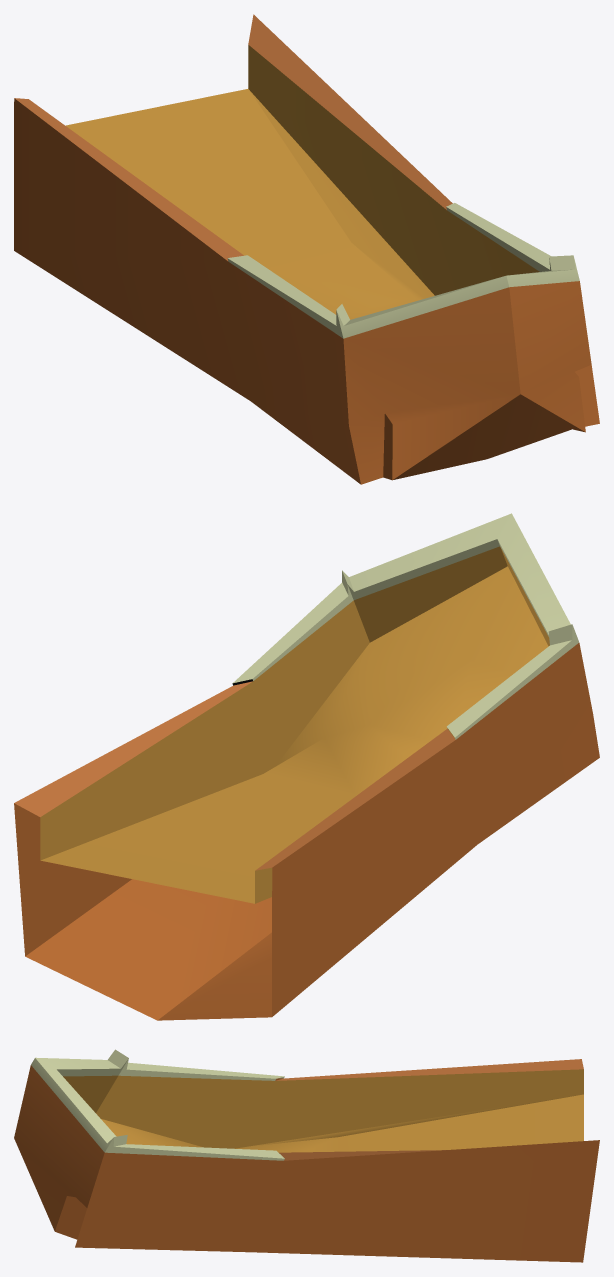
File: Boca Rex.fbx
The picture shows the model from 3 angles, top to bottom: view 1: azimuth 30°, elevation 25°; view 2: azimuth 150°, elevation 25°; view 3: azimuth 270°, elevation 25°; orthographic projection. The views are drawn at different scales.
Visible parts, largest first — view 1: Boca; view 2: Boca; view 3: Boca.
Boxes of the visible parts, x1=… form: Boca: x1=14, y1=14, x2=599, y2=484; Boca: x1=14, y1=513, x2=599, y2=1020; Boca: x1=14, y1=1049, x2=599, y2=1262.
Bounding box in the file's own units: 40.33 × 110 × 39.
Materials: 1 (1 with a texture image).
